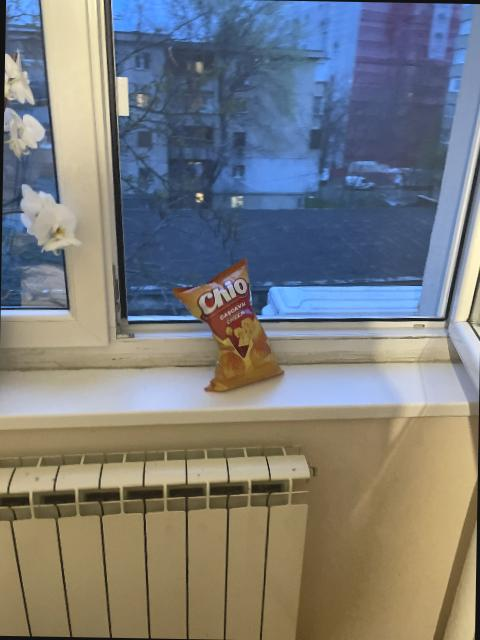Chio Cascaval 125g: (168, 256, 286, 388)
